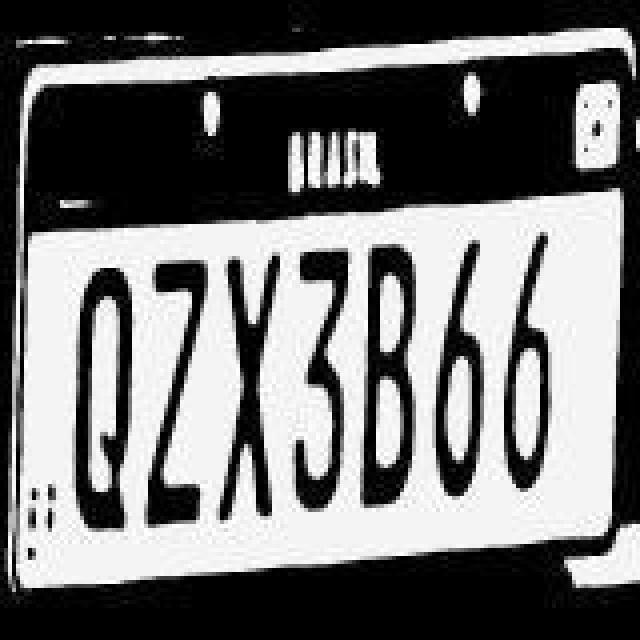3: (288, 246, 352, 514)
6: (494, 230, 554, 498), (428, 238, 484, 498)
B: (358, 238, 418, 514)
Q: (70, 266, 138, 534)
X: (212, 252, 284, 524)
Z: (142, 258, 210, 526)
